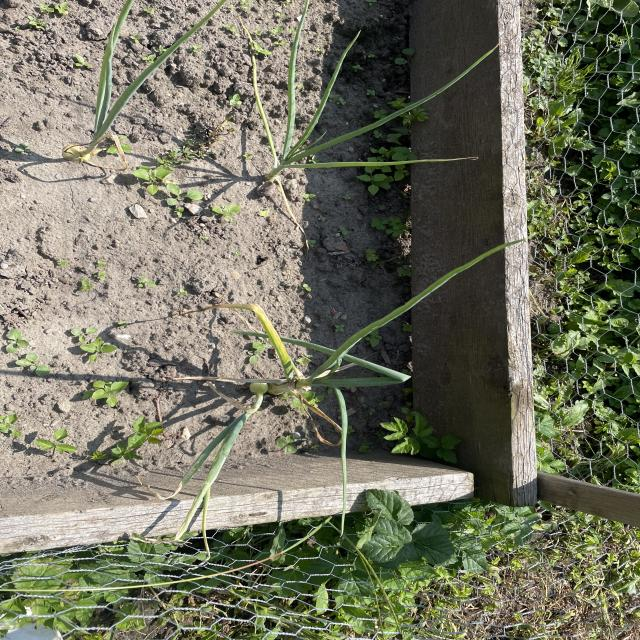Onion: (64, 3, 208, 160), (207, 326, 378, 453), (269, 60, 403, 182)
weed: (370, 78, 416, 198), (384, 412, 467, 466), (102, 416, 166, 469), (0, 326, 55, 384), (36, 428, 87, 467), (72, 322, 115, 364), (80, 378, 143, 406), (159, 181, 202, 212), (134, 163, 174, 195), (203, 196, 245, 226), (368, 213, 410, 243)
